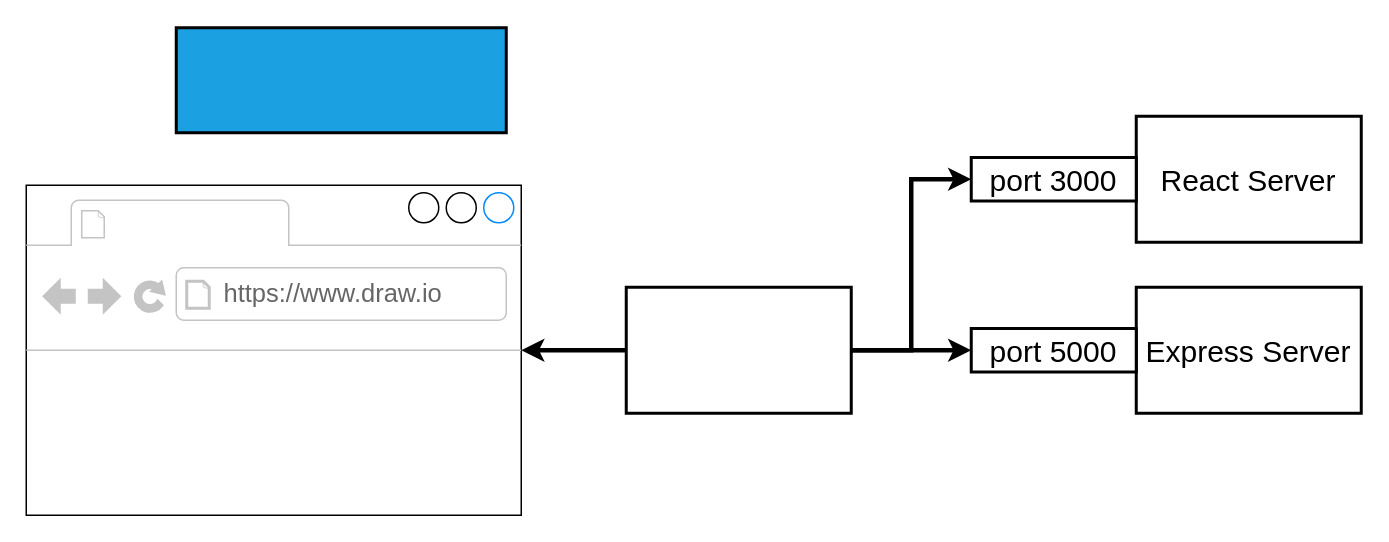
Image size: 1389x542. Some labels were removed from this diagram. The box of each missing label's shape, as (x1, y1, x2, y2) in pixels:
Development: (174, 26, 507, 134)
Nginx ROUTING!!!: (624, 285, 852, 414)
Page 1: (115, 202, 281, 242)
